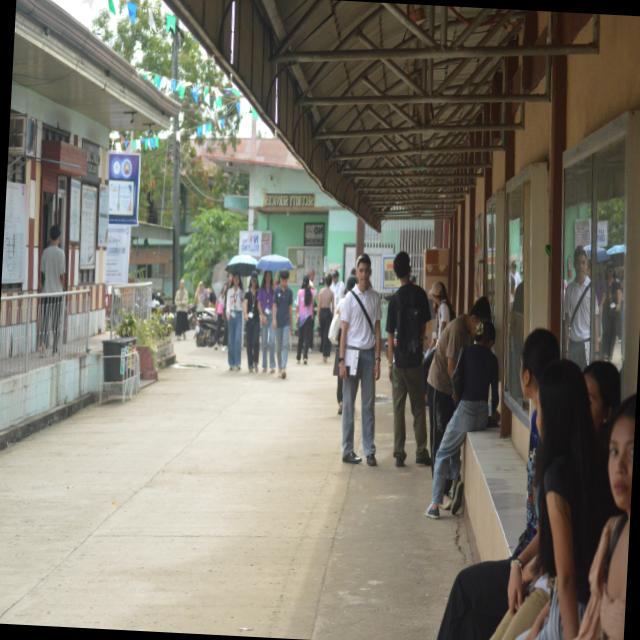person: (516, 361, 615, 639), (436, 411, 539, 639), (574, 395, 635, 639), (425, 322, 498, 518), (426, 297, 490, 472), (385, 251, 430, 466), (338, 254, 381, 466), (563, 246, 597, 370), (272, 269, 292, 378), (601, 262, 621, 361), (314, 274, 336, 363), (257, 271, 275, 373), (225, 273, 242, 370), (40, 225, 64, 293), (243, 271, 259, 372), (295, 275, 313, 364), (174, 280, 188, 339), (329, 271, 345, 311), (333, 351, 342, 414)
